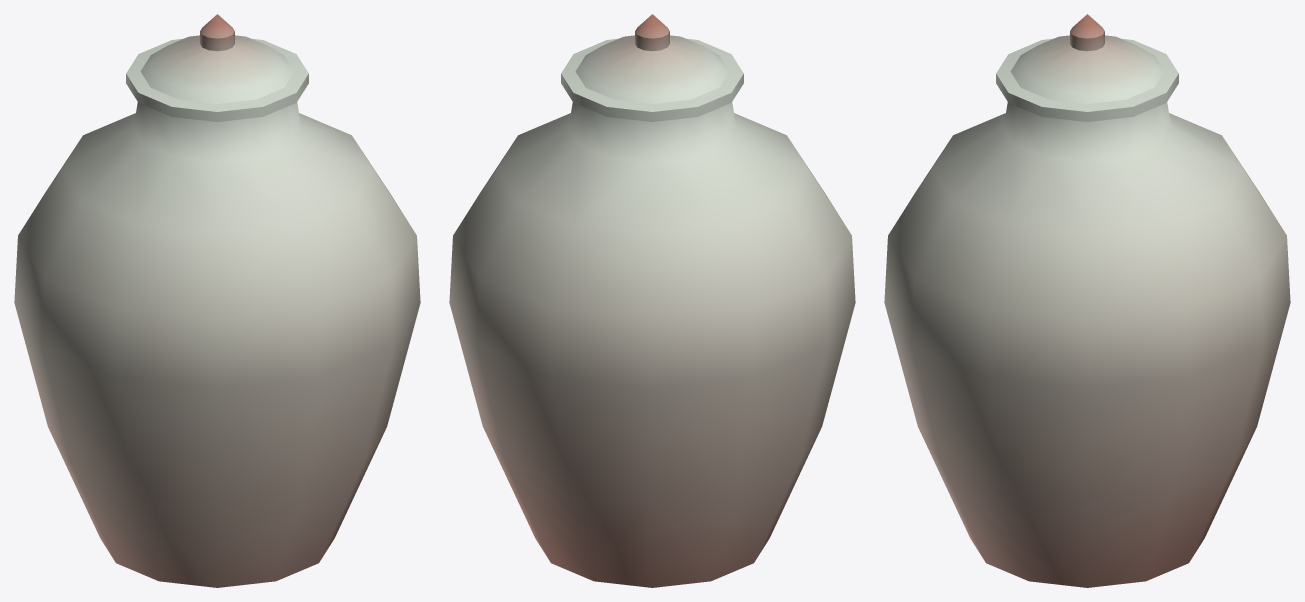
Rendered from urna.fbx.
The picture shows the model from 3 angles, left to right: view 1: azimuth 30°, elevation 25°; view 2: azimuth 150°, elevation 25°; view 3: azimuth 270°, elevation 25°; orthographic projection.
Visible parts, largest first — view 1: pCylinder1; view 2: pCylinder1; view 3: pCylinder1.
Part boxes in pixels (x1,y1,x2,y2): pCylinder1: (14,14,420,587); pCylinder1: (449,14,855,587); pCylinder1: (884,14,1290,587).
Size of the model in its own units: 1.29 by 1.83 by 1.29.
Materials: 1 (1 with a texture image).
